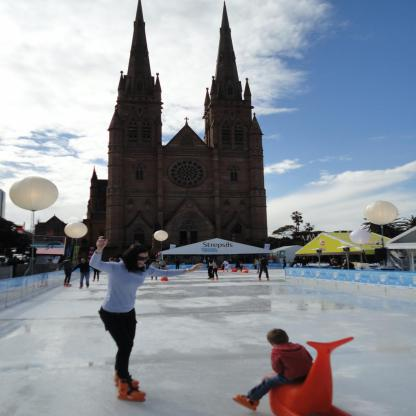face: (137, 253, 150, 268), (82, 259, 86, 264), (110, 260, 113, 263), (165, 269, 168, 271), (332, 261, 334, 264), (334, 262, 337, 264), (304, 258, 307, 260), (158, 263, 160, 265)
